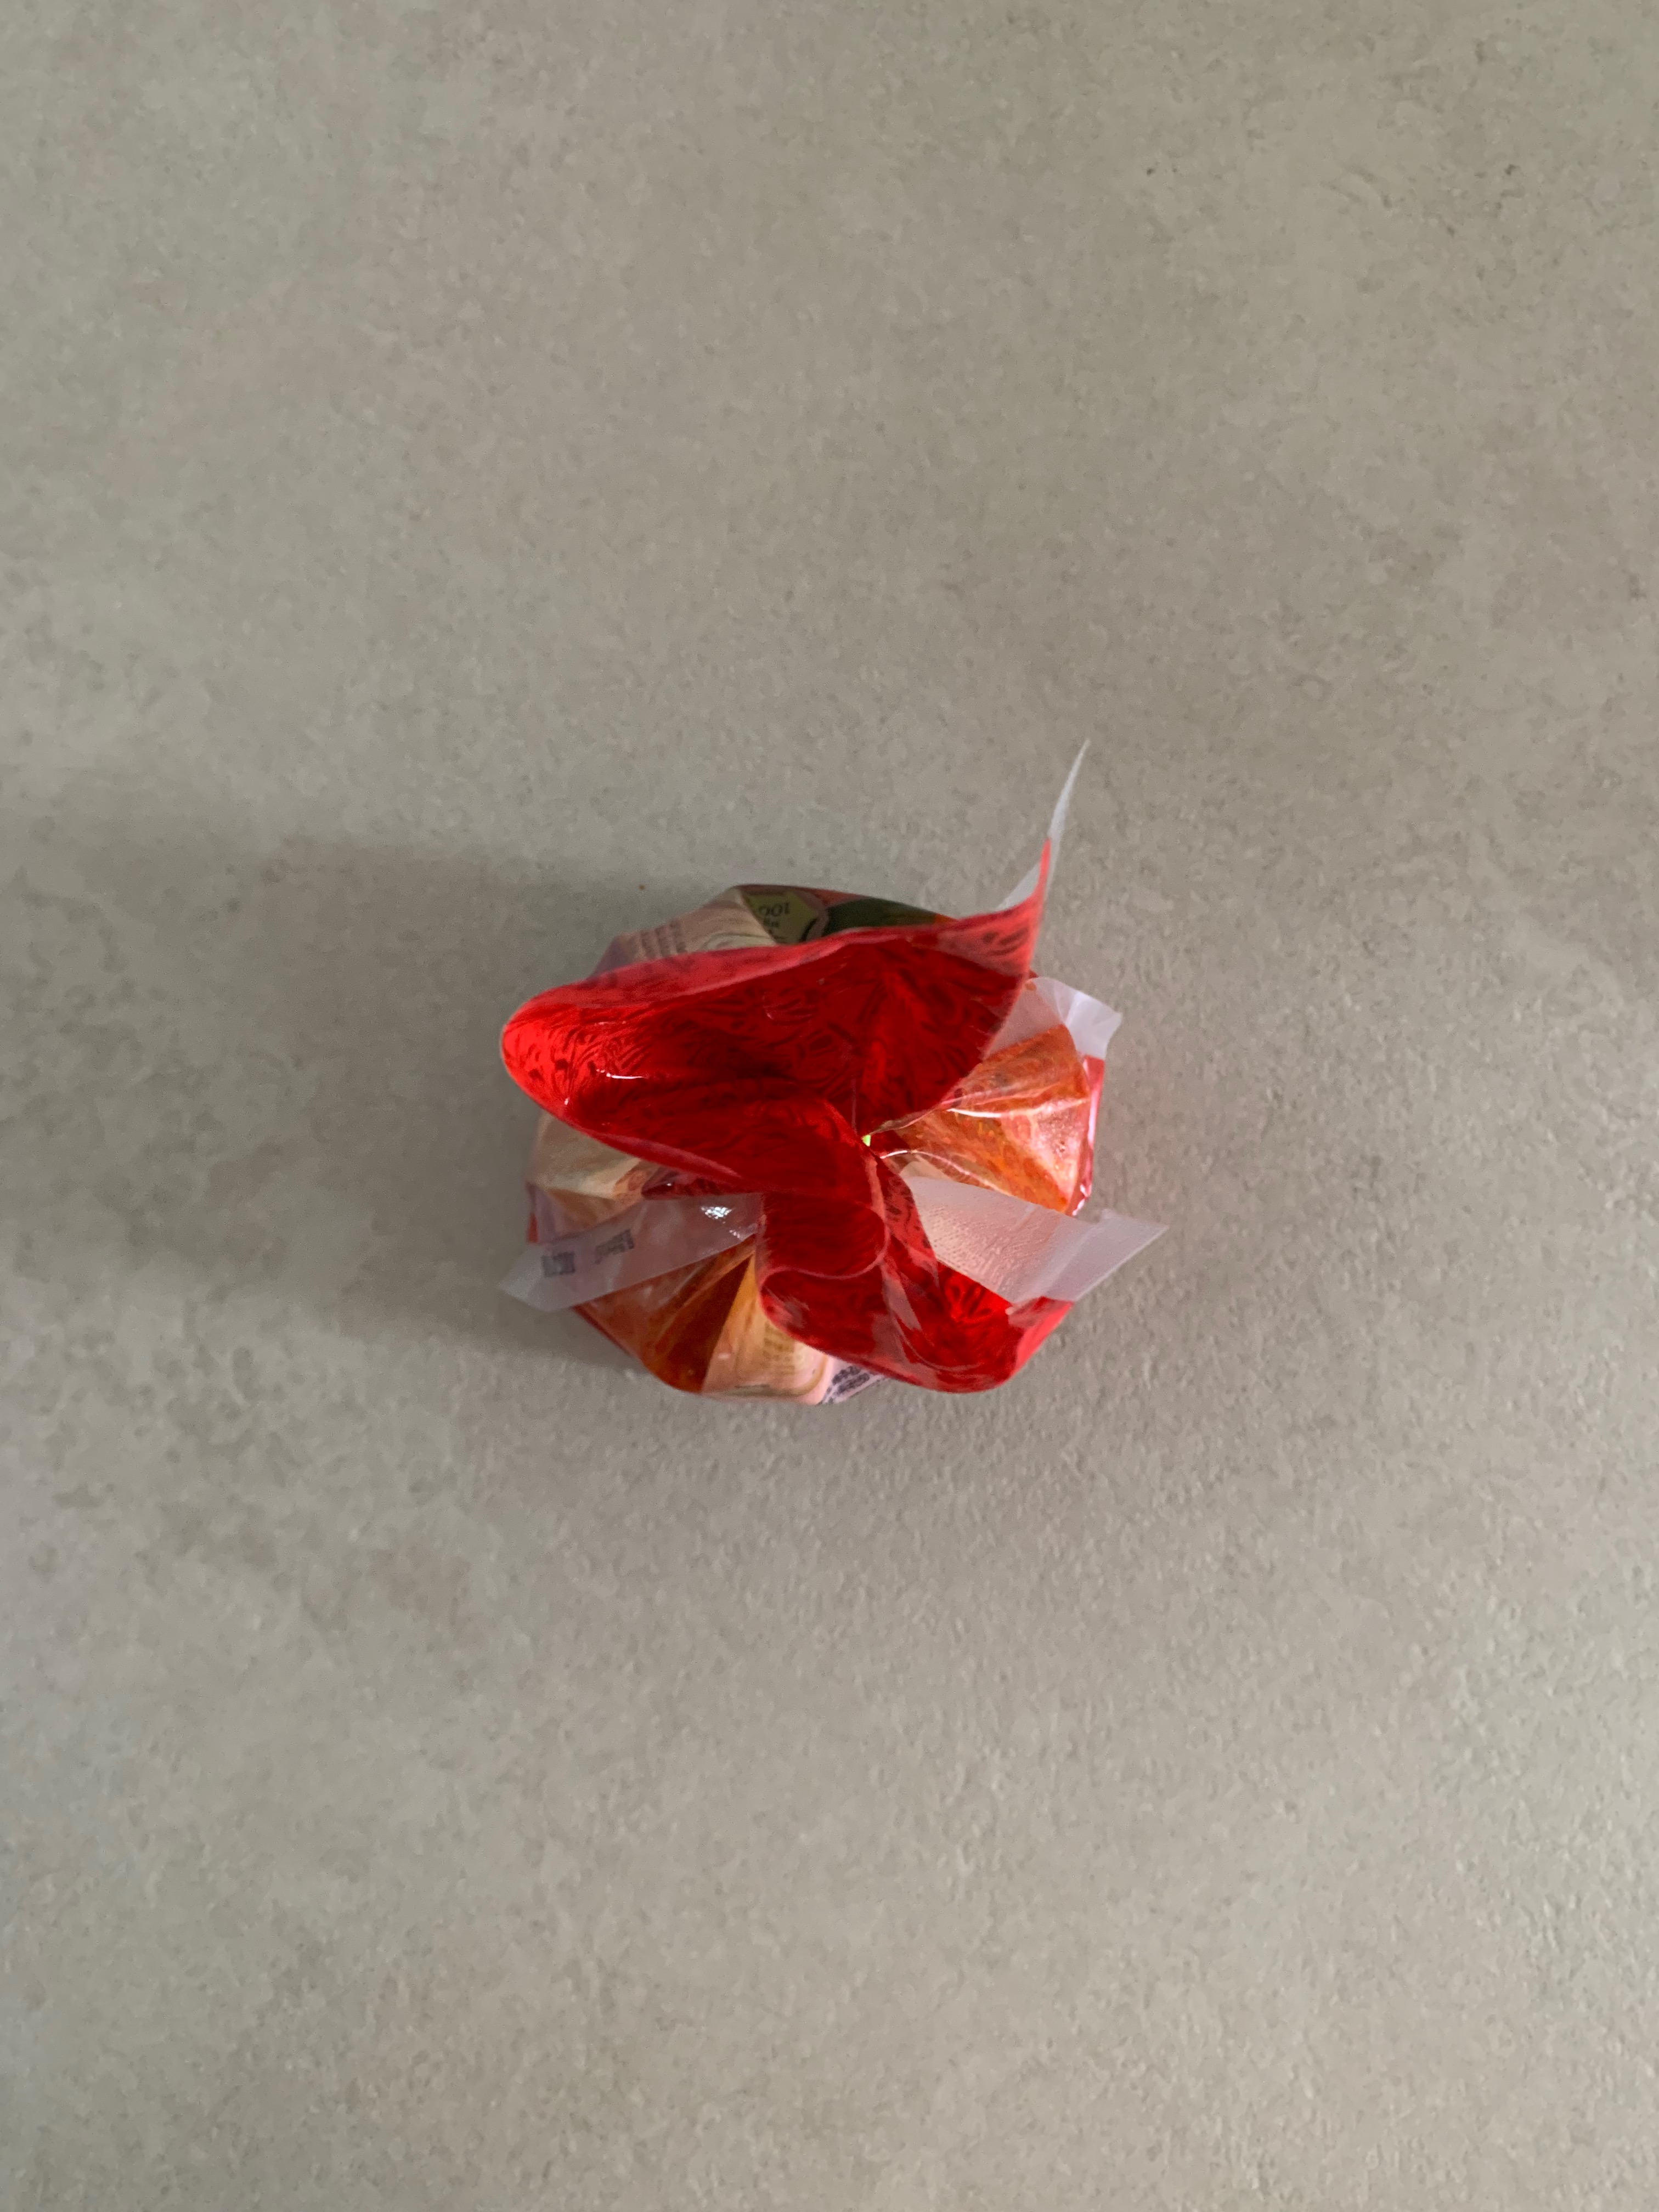kimchi: (500, 887, 1107, 1407)
